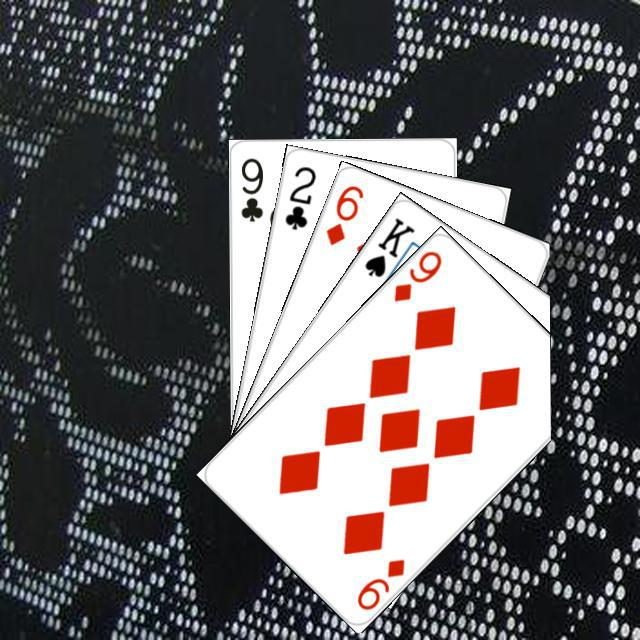2c: (280, 161, 318, 232)
6d: (321, 180, 366, 247)
9c: (235, 153, 265, 223)
9d: (351, 553, 407, 613), (388, 246, 444, 304)
Ks: (359, 213, 417, 280)
